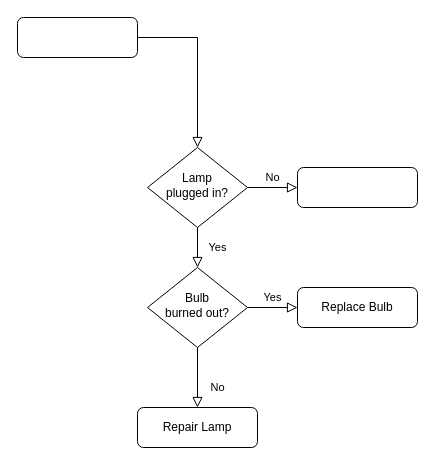
Some shapes in this 435 by 465 pixel diagram are drawn without their labels. Here are the shapes that lost their labels. From the top down, the box of each, then its label:
(16, 16, 138, 58): User logs in
(296, 166, 418, 208): Plug in lamp
